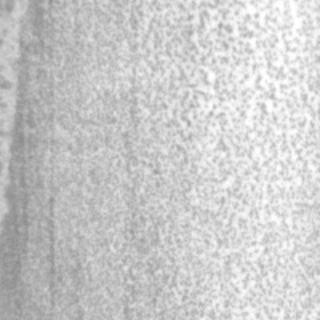pitted_surface: (13, 0, 317, 316)
